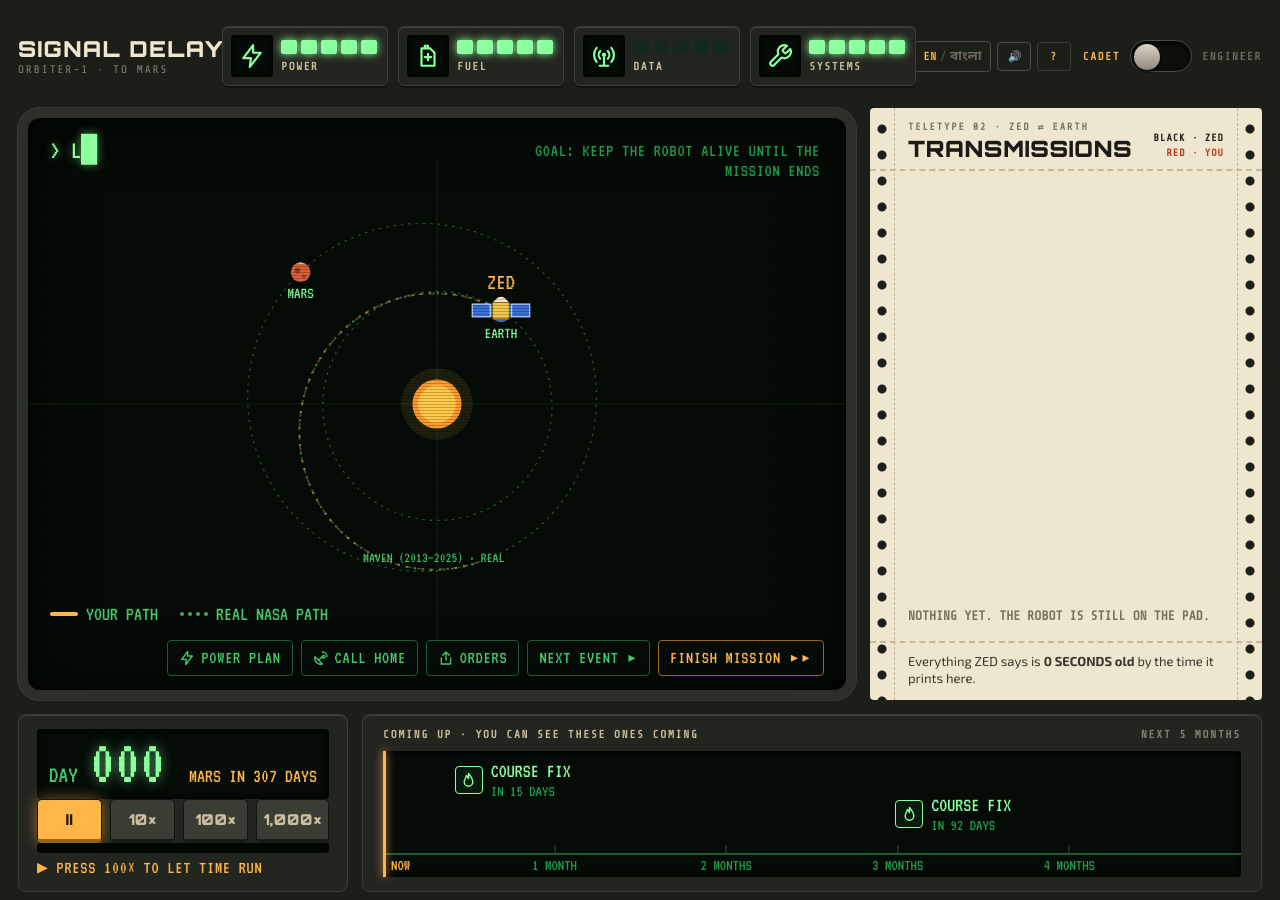
Test: Fly & Survive: the robot talks › its name is over it on the map, and its first message prints on the teletype with how long it took
Step 1. Click the button named "10× speed" → (142, 821), box [110, 799, 175, 843]
Wait 1500 ms
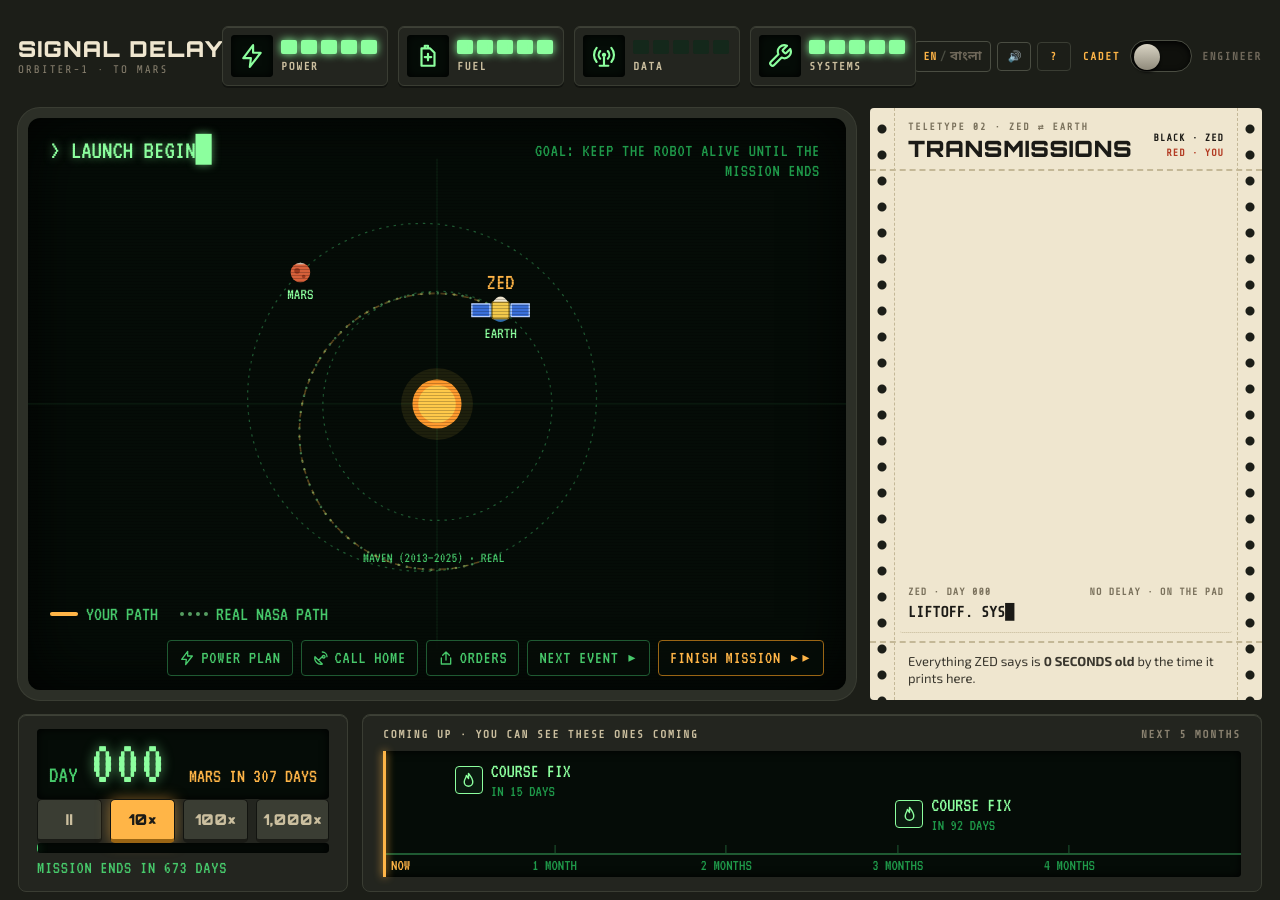
Result: the list named "Transmissions log" shows "ZED · DAY" at [900, 578, 1232, 633]
Result: the list named "Transmissions log" shows "NO DELAY · ON THE PAD" at [1090, 586, 1224, 597]
